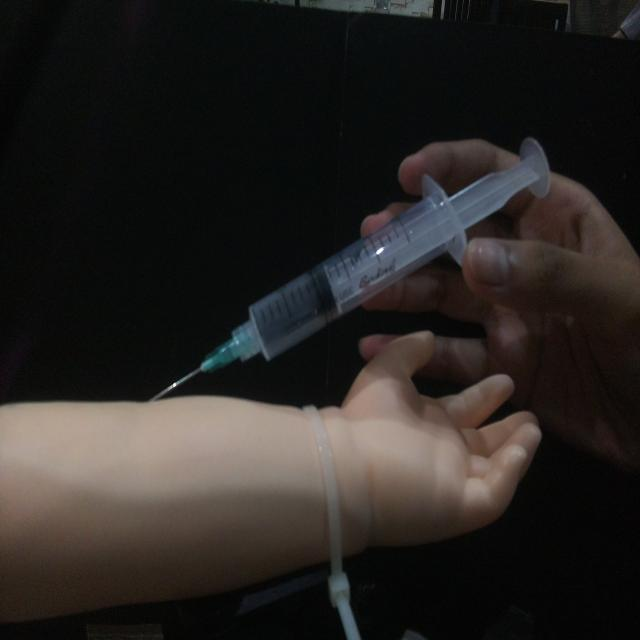20deg: (144, 132, 554, 404)
